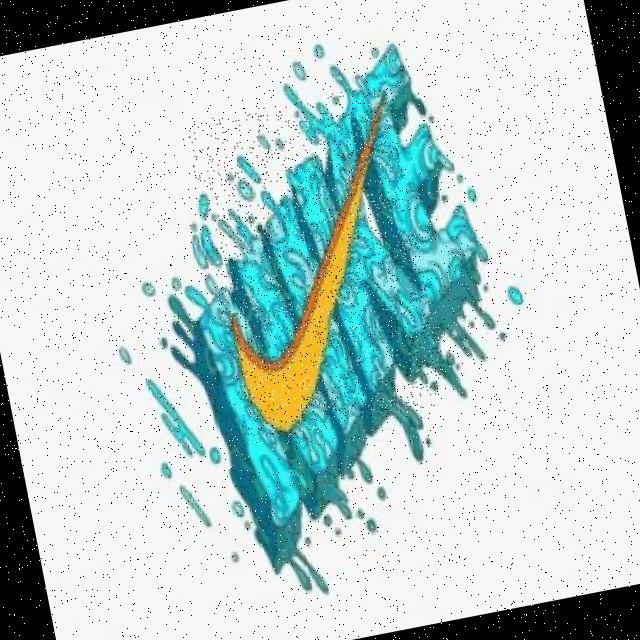Nike: (184, 83, 453, 445)
